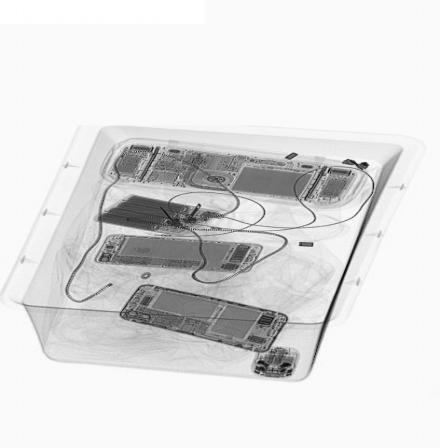Powerbank: (92, 194, 226, 237)
